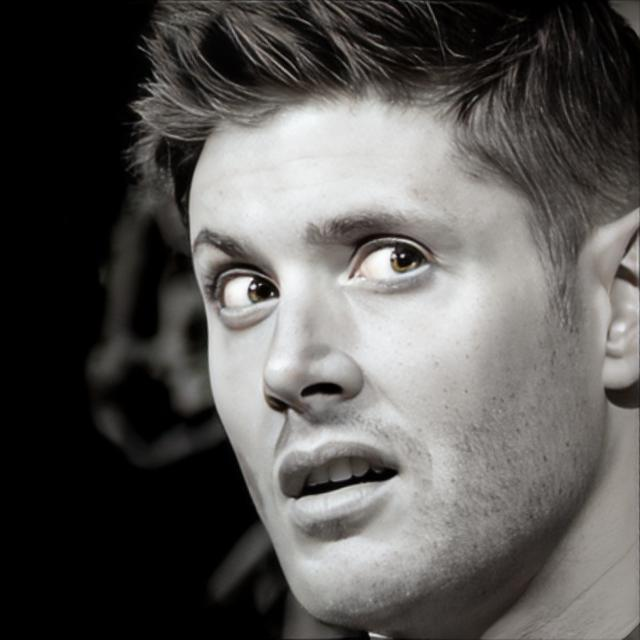fear: (188, 81, 590, 628)
